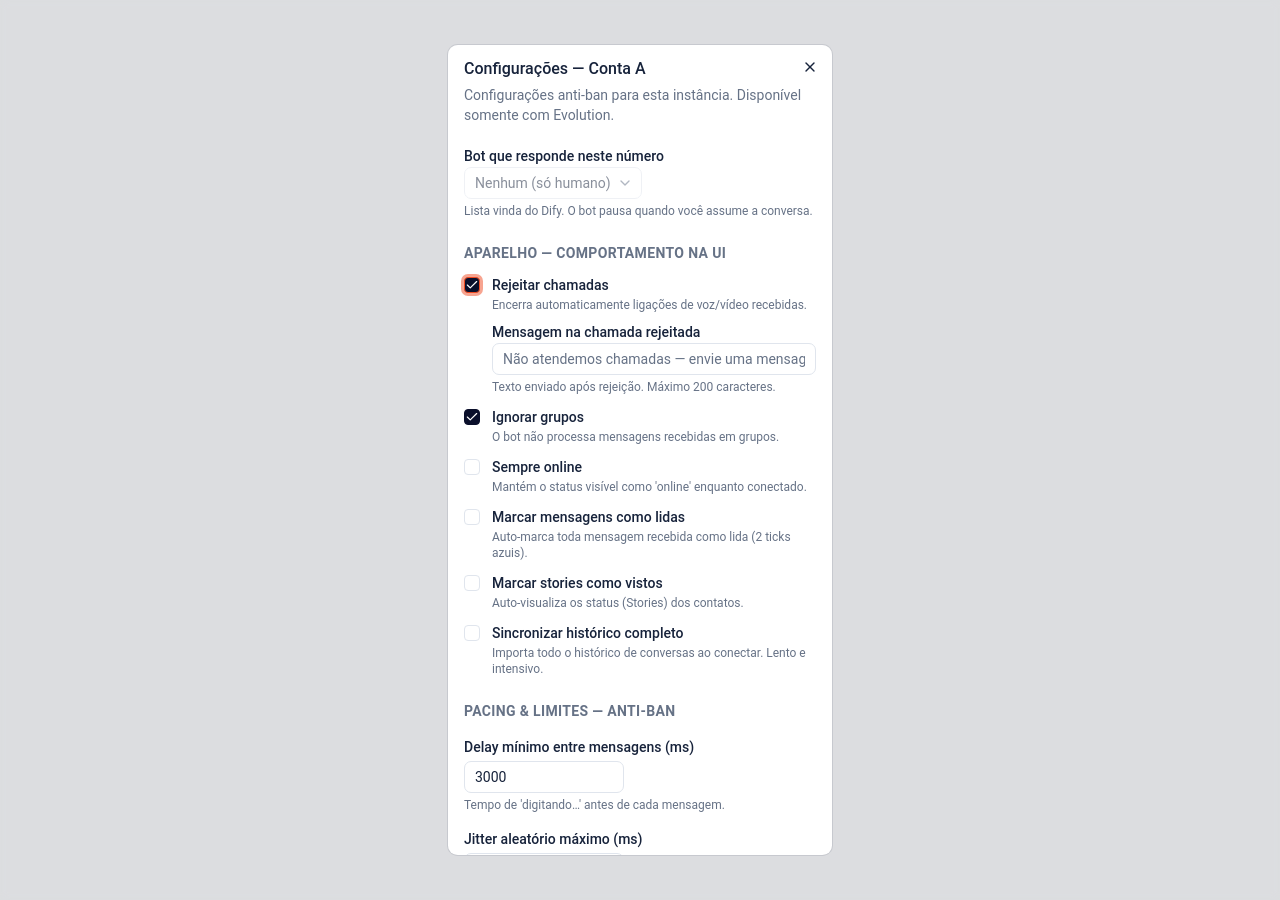
Test: InstanceConfigDrawer — msgCall › is disabled while rejectCall is off and enabled while on
Expected: the field labelled "Mensagem na chamada rejeitada" is enabled, x1=492 y1=343 x2=816 y2=375
Click the checkbox next to "Rejeitar chamadas".
click(472, 285)  # box x1=464 y1=277 x2=480 y2=293
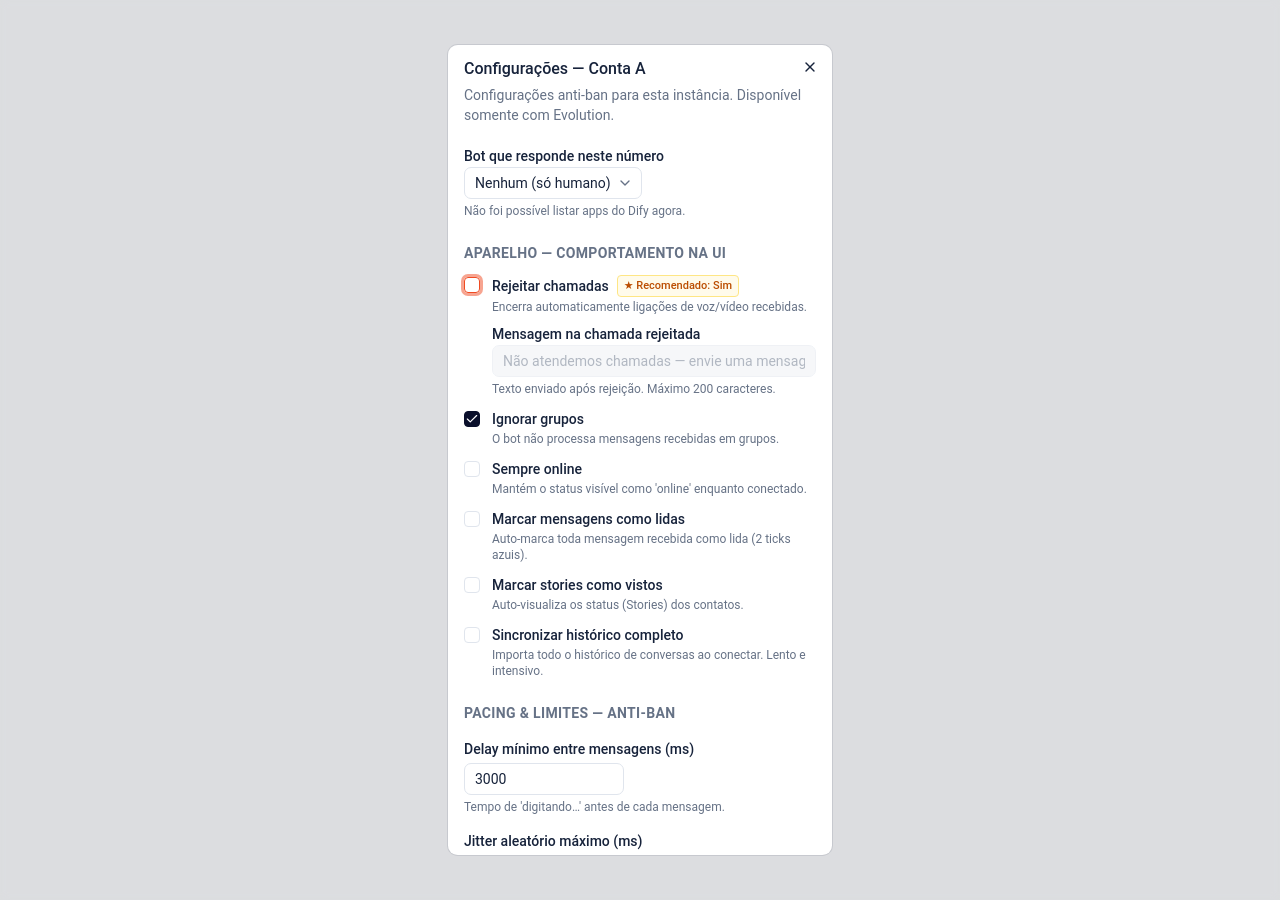
Expected: the field labelled "Mensagem na chamada rejeitada" is disabled, x1=492 y1=345 x2=816 y2=377
